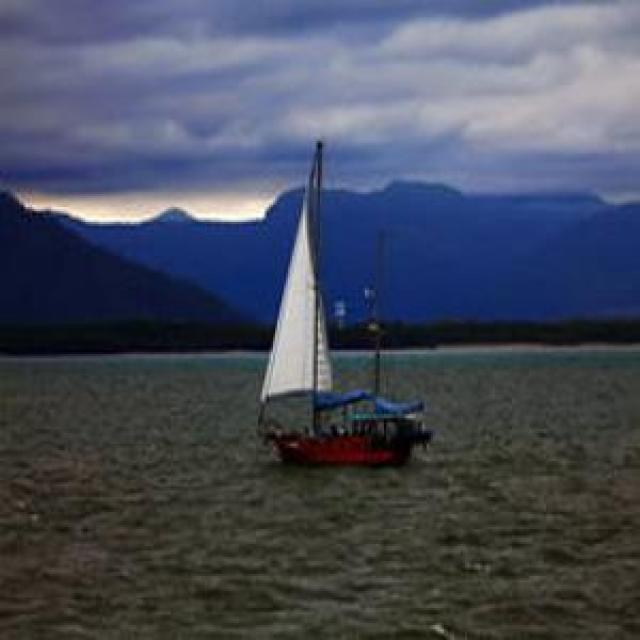sailboat: (252, 135, 435, 466)
